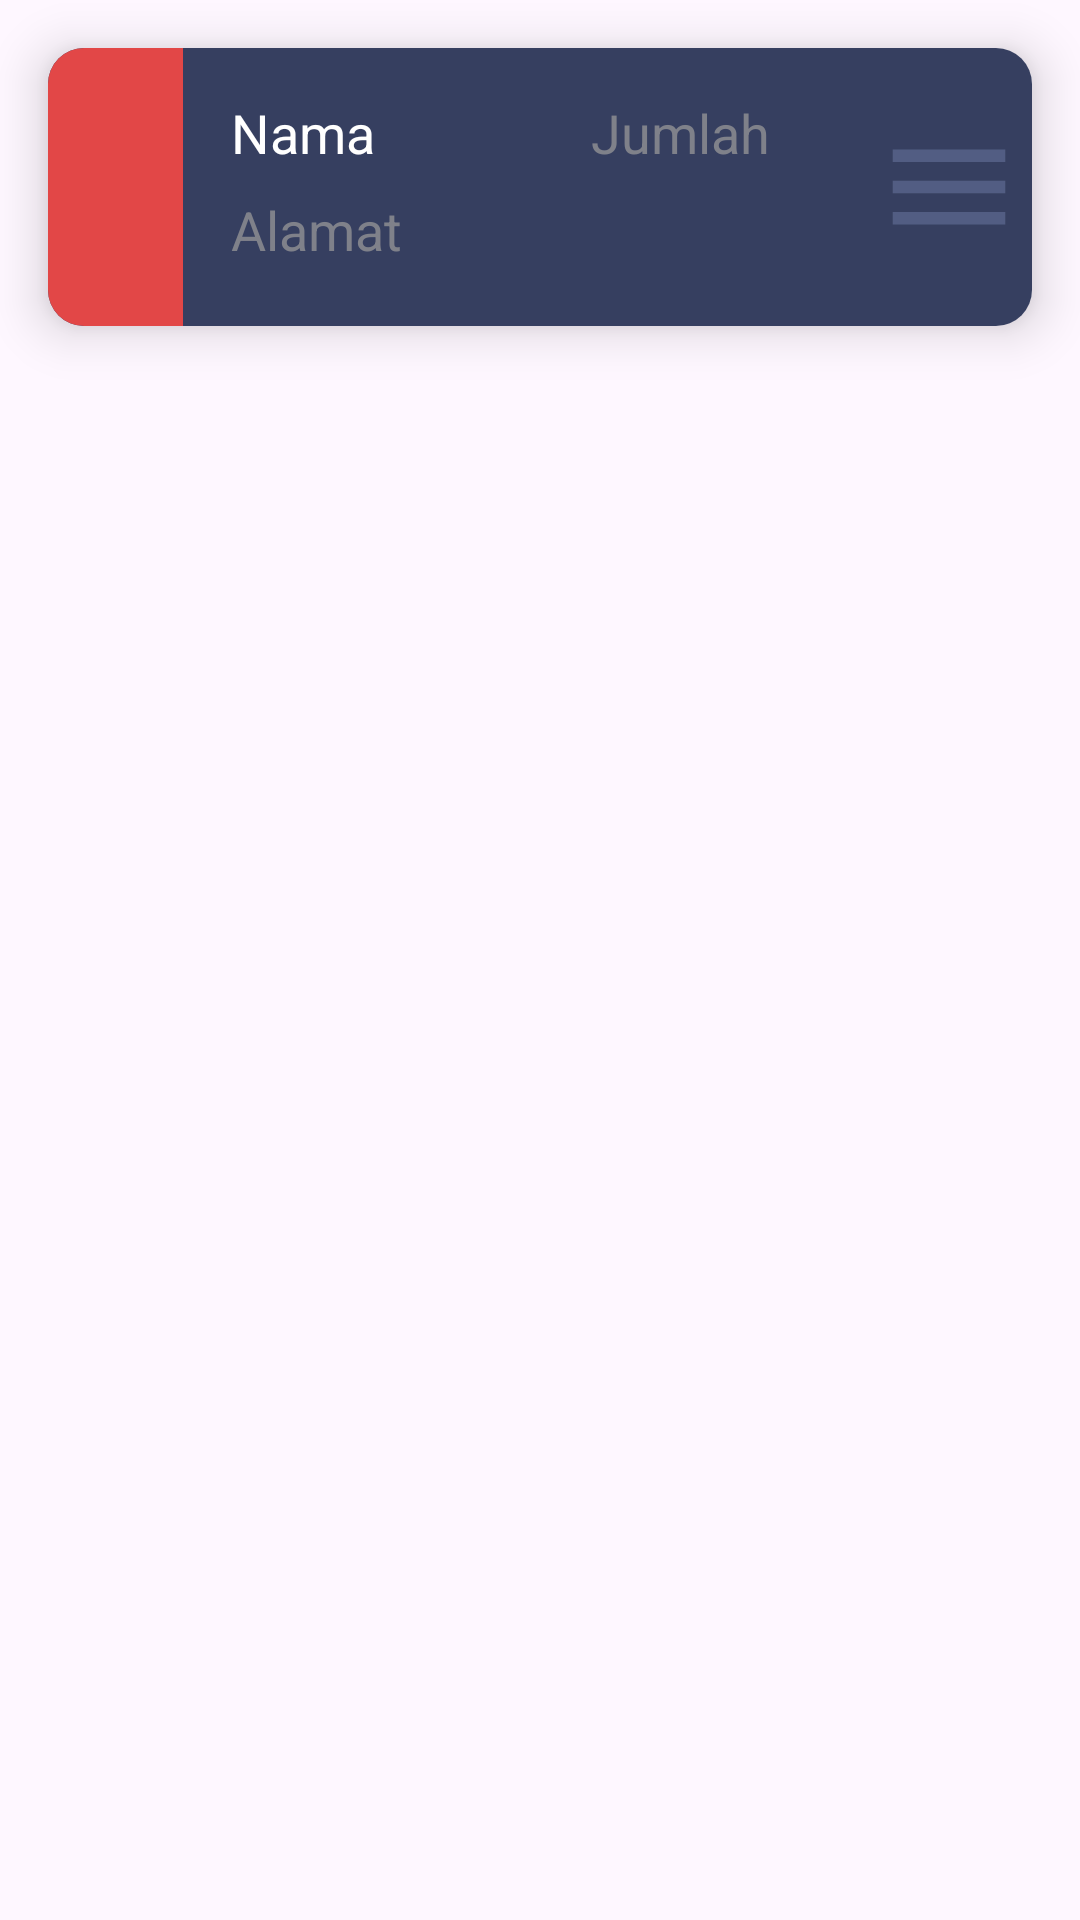

Icons on this 1080px×1920px Android screen, each with its box as (x1, y1, x2, y2):
menu: (893, 150, 1005, 224)
